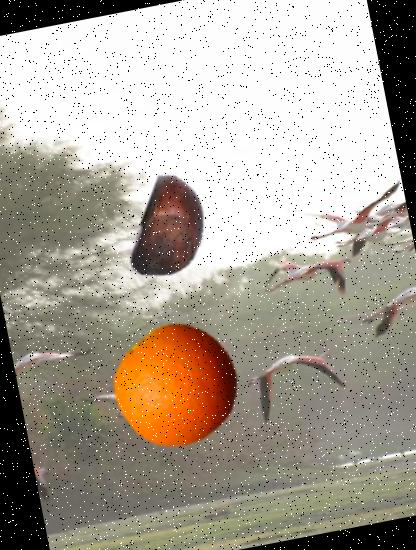Chestnut: (108, 166, 235, 293)
Orange: (103, 312, 250, 459)
